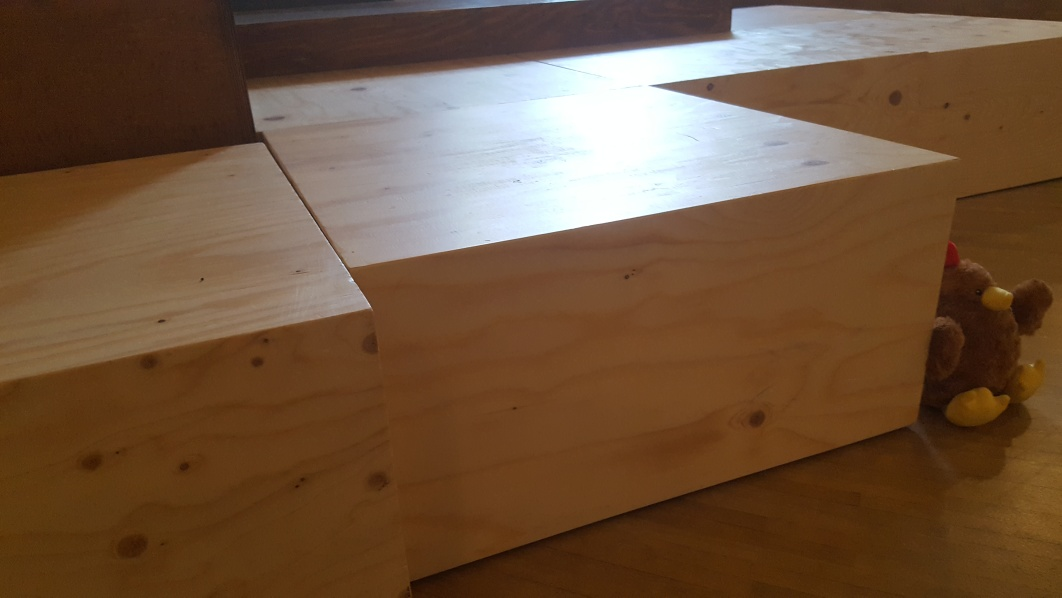chicken: (928, 241, 1054, 424)
